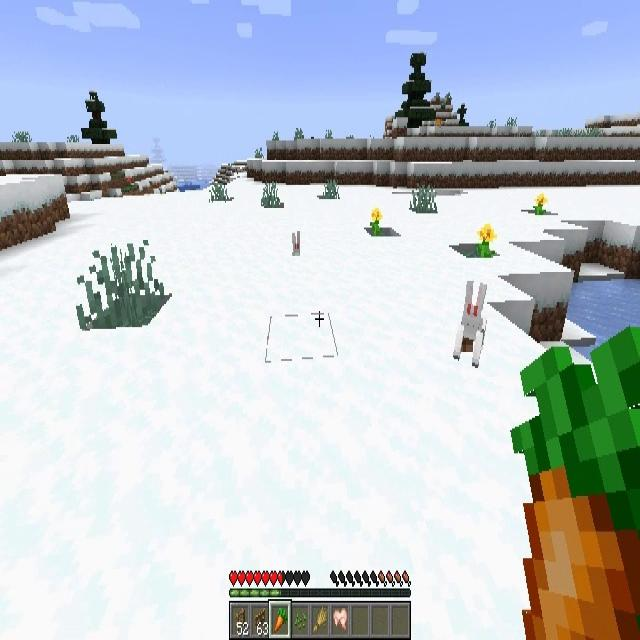flower: (476, 223, 496, 257), (369, 207, 382, 236), (534, 193, 547, 214)
rabbit: (451, 280, 491, 369), (290, 230, 301, 255)
